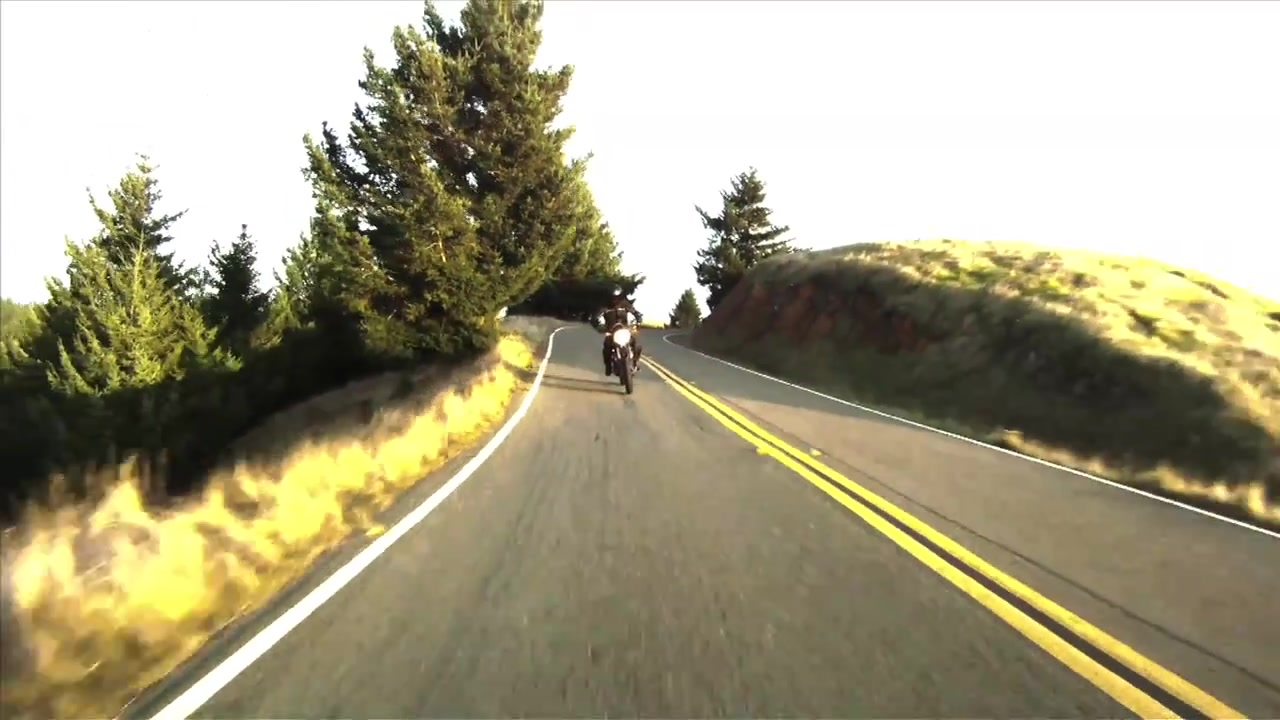motorbike: (598, 318, 648, 392)
